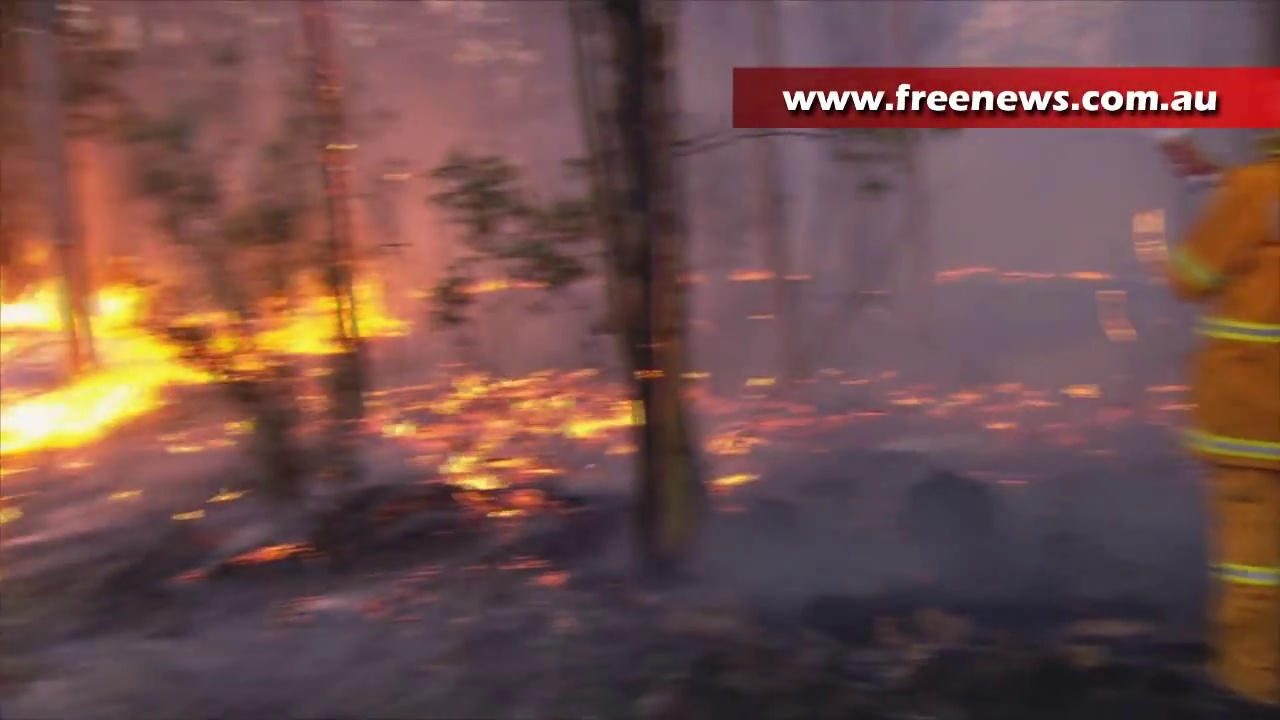fire: (1, 264, 407, 461), (432, 374, 630, 507)
